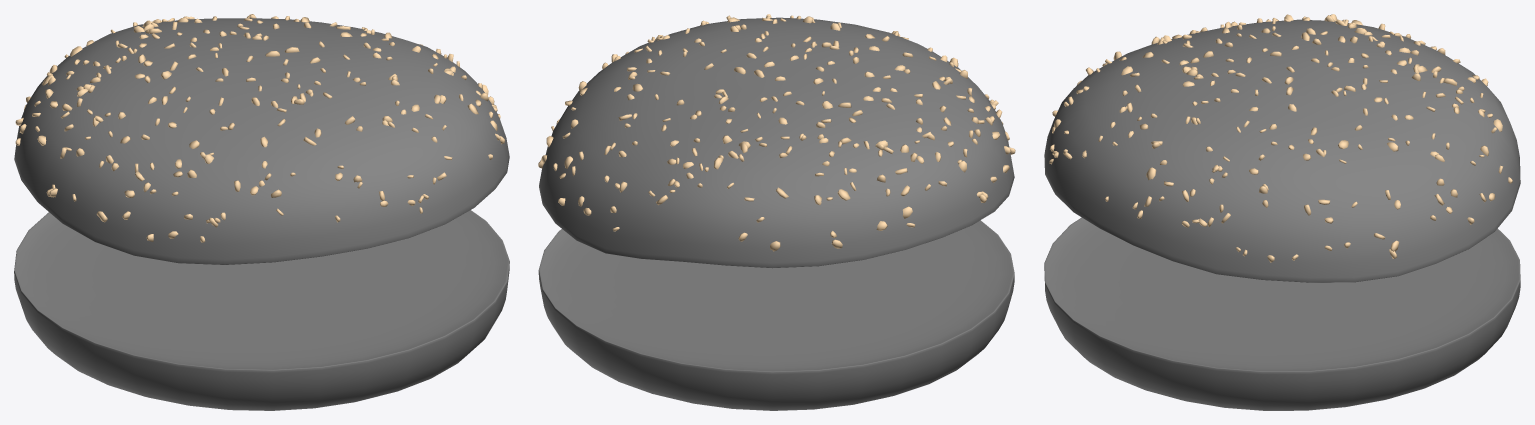
File: pan.fbx
3 renders of one model, left to right at view 1: azimuth 30°, elevation 25°; view 2: azimuth 150°, elevation 25°; view 3: azimuth 270°, elevation 25°, orthographic. The views are drawn at different scales.
Parts seen in each view (by area): view 1: cgaxis_models_29_20_01, cgaxis_models_29_20_09; view 2: cgaxis_models_29_20_01, cgaxis_models_29_20_09; view 3: cgaxis_models_29_20_01, cgaxis_models_29_20_09.
Part boxes in pixels (x1=…): cgaxis_models_29_20_01: x1=14, y1=18, x2=509, y2=410; cgaxis_models_29_20_09: x1=15, y1=14, x2=504, y2=242; cgaxis_models_29_20_01: x1=538, y1=17, x2=1014, y2=410; cgaxis_models_29_20_09: x1=538, y1=14, x2=1015, y2=251; cgaxis_models_29_20_01: x1=1044, y1=19, x2=1520, y2=410; cgaxis_models_29_20_09: x1=1049, y1=14, x2=1512, y2=262.
Size of the model in its own units: 3.98 by 2.33 by 3.94.
